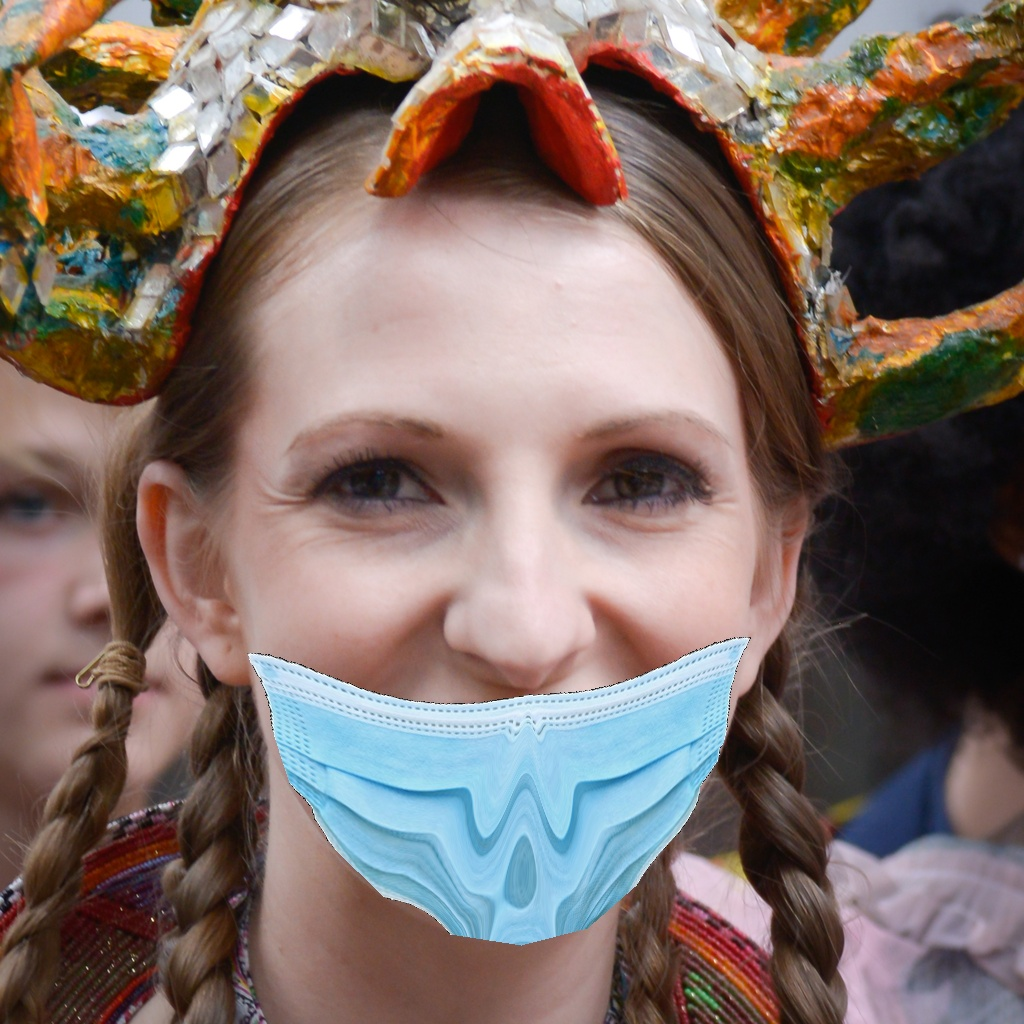mascarilla_mal_puesta: (247, 378, 772, 940)
